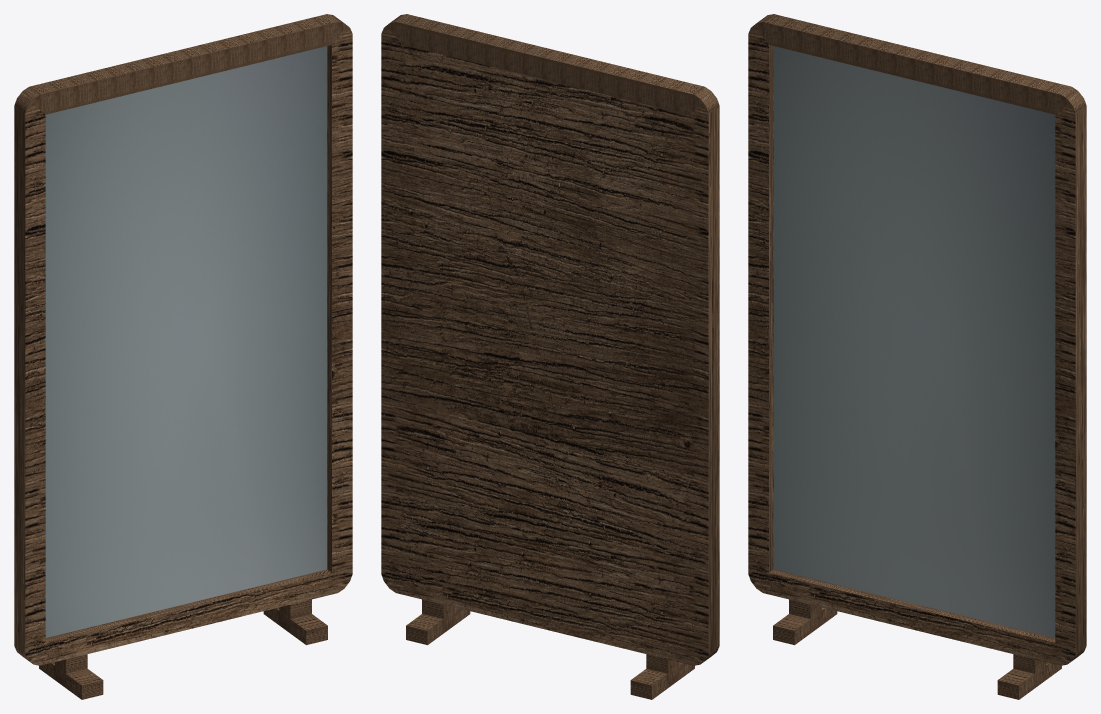
Rendered from mirror.FBX.
3 views of the same model, side by side, from view 1: azimuth 30°, elevation 25°; view 2: azimuth 150°, elevation 25°; view 3: azimuth 330°, elevation 25° (orthographic).
Parts seen in each view (by area): view 1: Box001; view 2: Box001; view 3: Box001.
Boxes of the visible parts, <box> form: Box001: <box>14,14,352,699</box>; Box001: <box>381,14,719,699</box>; Box001: <box>748,14,1086,699</box>.
Bounding box in the file's own units: 30 × 52.53 × 6.79.
2 materials, 2 textured.
